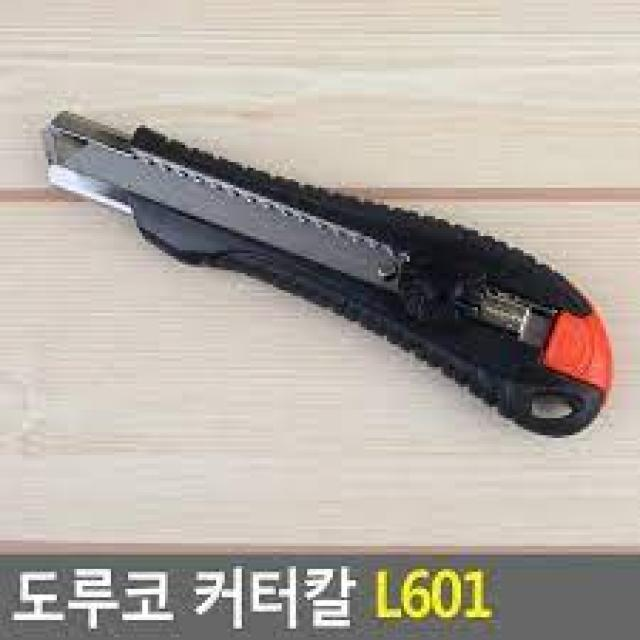cutter: (26, 80, 621, 452)
